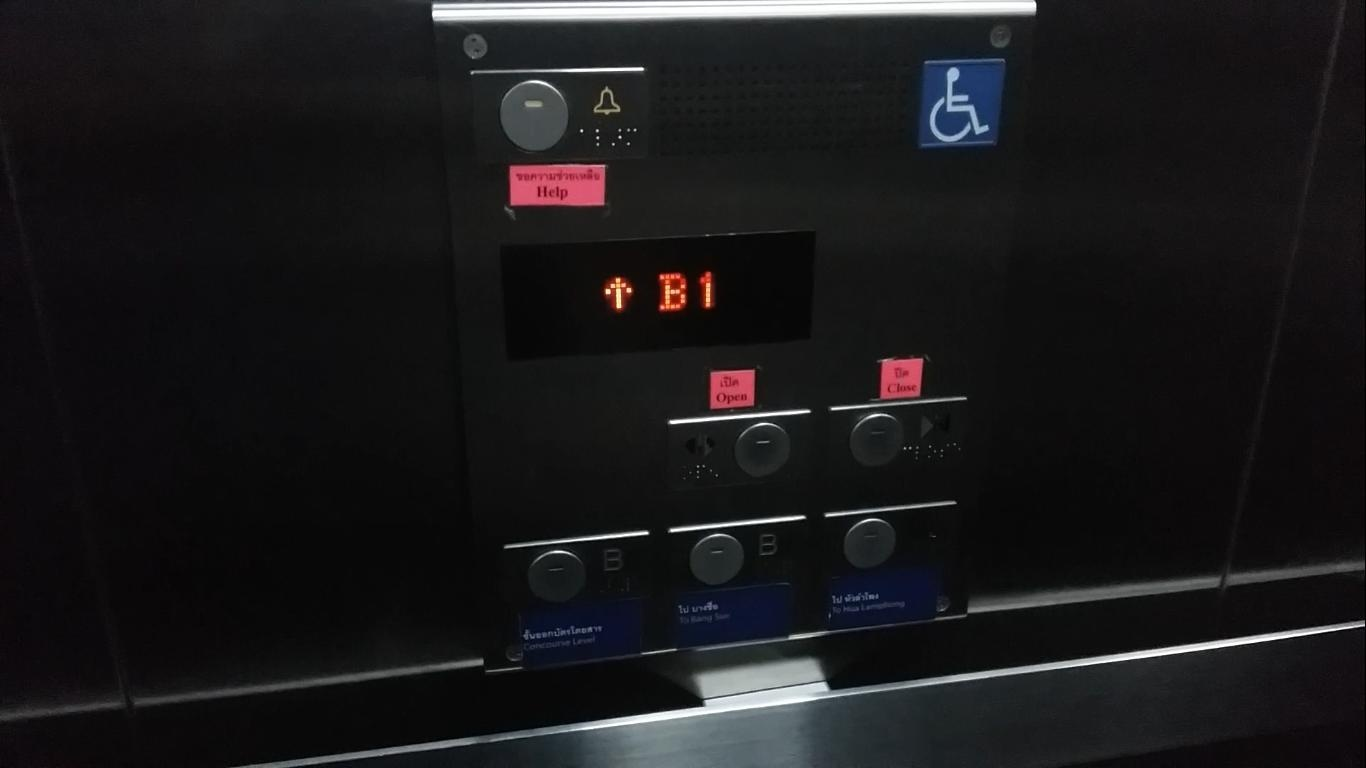B: (494, 527, 654, 619), (661, 511, 812, 599)
CH: (916, 57, 1008, 150)
alarm: (459, 63, 651, 169)
blur: (818, 498, 963, 588)
close: (823, 393, 973, 478)
led: (500, 224, 823, 366)
open: (663, 406, 817, 497)
